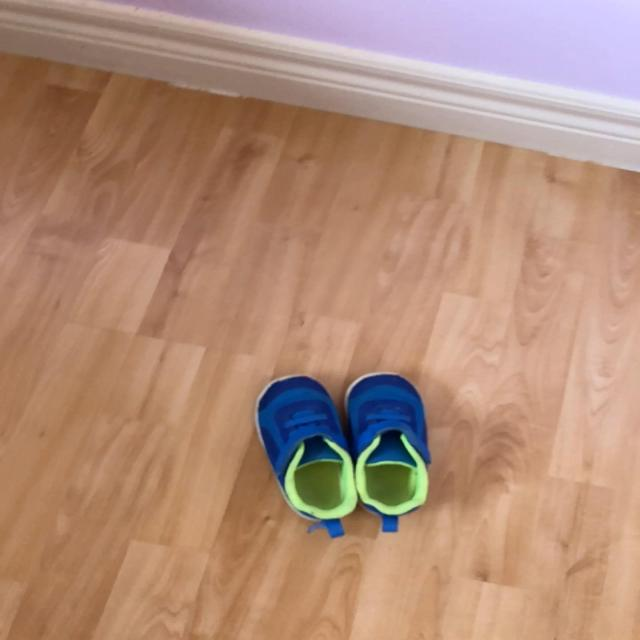shoe: (255, 377, 358, 527), (343, 373, 433, 521)
